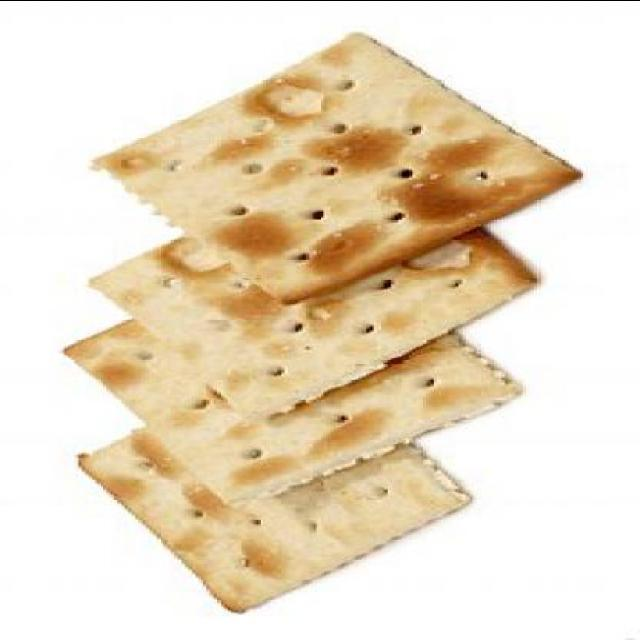Cracker packaged: (88, 32, 580, 304), (61, 278, 530, 502), (86, 204, 554, 416), (71, 401, 480, 610)
